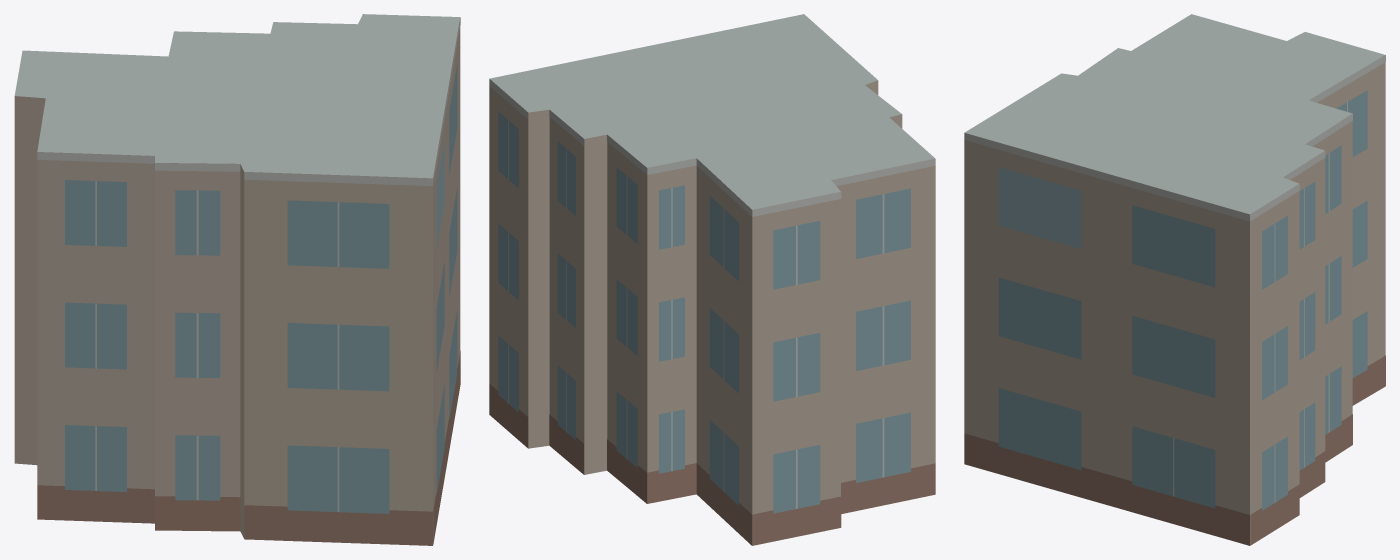
Rendered from survey-upis-32545469.glb.
3 views of the same model, side by side, from view 1: azimuth 30°, elevation 25°; view 2: azimuth 150°, elevation 25°; view 3: azimuth 270°, elevation 25° (orthographic). The views are drawn at different scales.
Parts seen in each view (by area): view 1: survey-upis-32545469.tmp; view 2: survey-upis-32545469.tmp; view 3: survey-upis-32545469.tmp.
Boxes of the visible parts, <box> form: survey-upis-32545469.tmp: <box>14,14,460,545</box>; survey-upis-32545469.tmp: <box>489,14,935,545</box>; survey-upis-32545469.tmp: <box>964,14,1385,545</box>.
Bounding box in the file's own units: 14.86 × 11.45 × 13.2.
